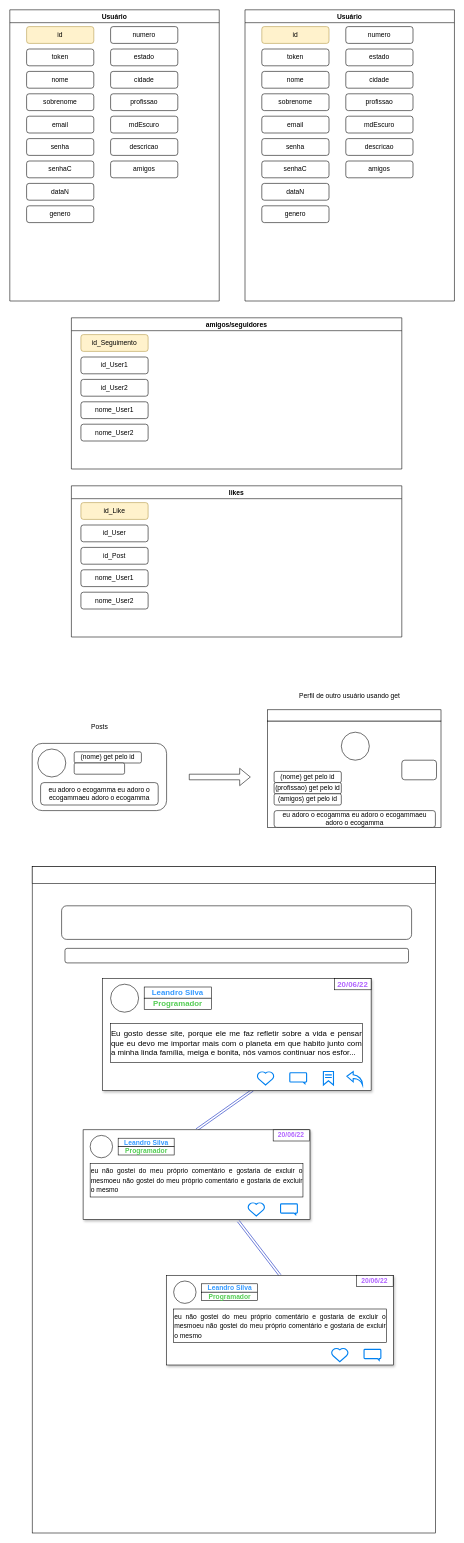
The diagram is 464 pixels wide and 1543 high, and some of its shapes have lost their labels. Here are the shapes that lost their labels. From the top down, the centre of each, then its label:
At pixel 354 715: "www.ecogamma.com/?13".
At pixel 99 768: "Profissão".
At pixel 419 770: "Seguir".
At pixel 233 874: "www.ecogamma.com.br/feed.php".
At pixel 236 955: "POST".
